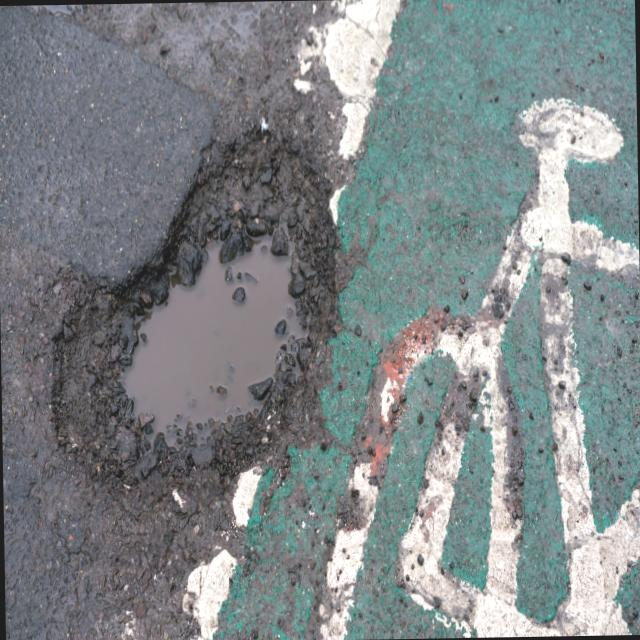bad-road: (45, 117, 342, 502)
